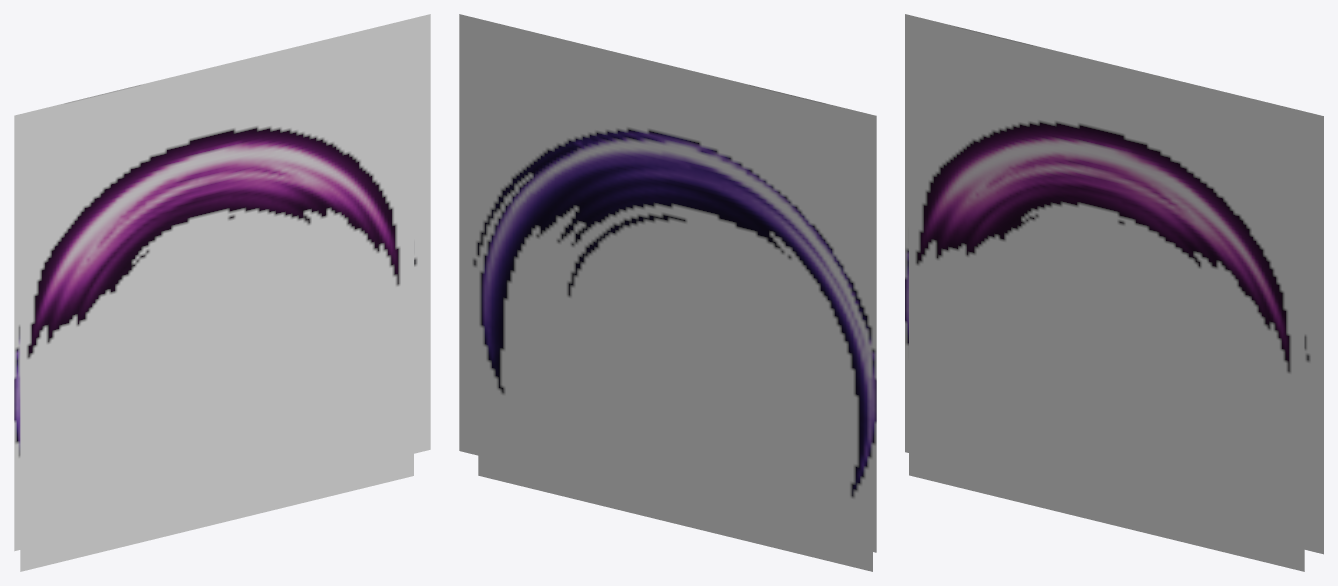
The model's file is fbx_skill_104_x_twinblade_attack_3r.FBX.
3 renders of one model, left to right at view 1: azimuth 30°, elevation 25°; view 2: azimuth 150°, elevation 25°; view 3: azimuth 330°, elevation 25°, orthographic.
Parts seen in each view (by area): view 1: Plane001; view 2: Plane001; view 3: Plane001.
Part boxes in pixels (bbox=[...]): Plane001: bbox=[14, 14, 430, 571]; Plane001: bbox=[459, 14, 876, 571]; Plane001: bbox=[905, 14, 1323, 571].
Bounding box in the file's own units: 80 × 0.3673 × 83.87.
1 material, 1 textured.
